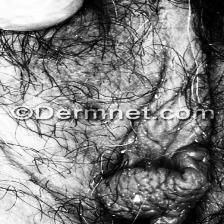Benign Marking or Mole: (86, 104, 102, 113)
